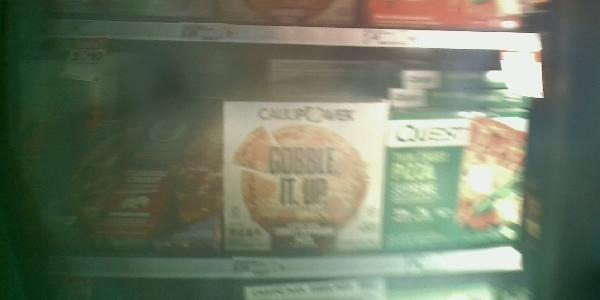pizza: (224, 98, 385, 258), (55, 112, 223, 254), (387, 120, 530, 242)
pizza1: (389, 88, 529, 116), (265, 57, 401, 80), (403, 68, 543, 89), (223, 81, 386, 99)
